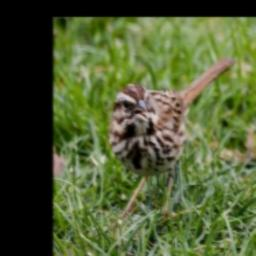Sparrow: (107, 54, 239, 207)
